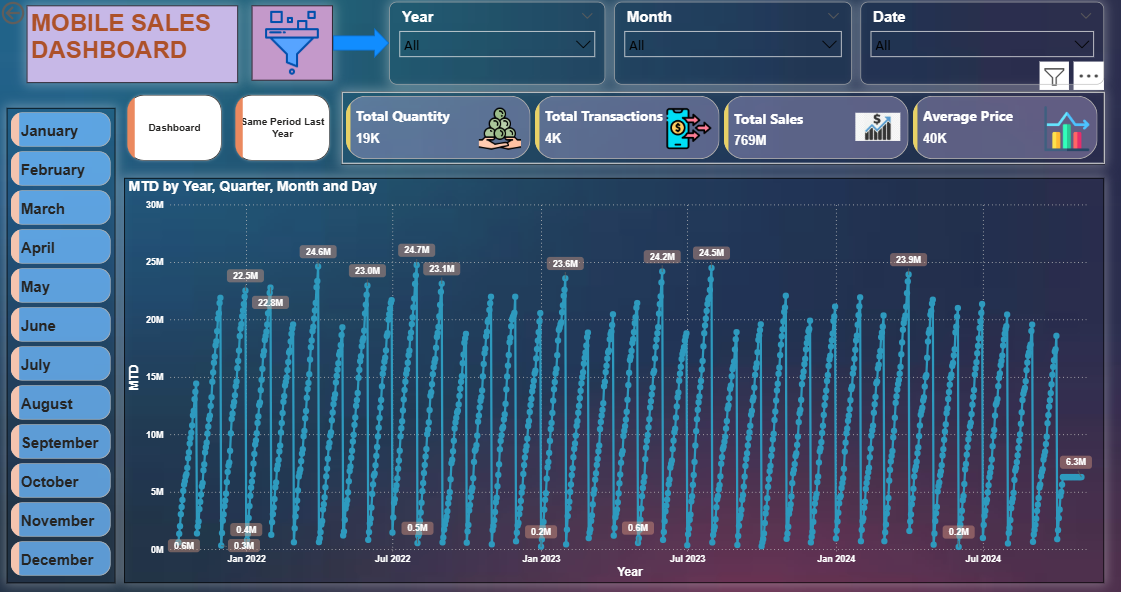

Layout of this report page (visuals, bound fields, positions):
{"tool":"powerbi","page":{"name":"MTD","canvas":[1500,800],"ordinal":1},"visuals":[{"type":"textbox","box":[38.3,10,281.7,103.3],"z":0},{"type":"cardVisual","fields":{"Data":["Sales_Data.Total Quantity","Sales_Data.Total Transactions","Sales_Data.Total Sales","Sales_Data.Average Price"]},"box":[458.3,125,1016.7,96.7],"z":1000},{"type":"advancedSlicerVisual","fields":{"Values":["Custim_calendar.Date.Variation.Date Hierarchy.Month"]},"box":[11.7,146.7,145,633.3],"z":2000},{"type":"slicer","fields":{"Values":["Custom Calandar.Date.Variation.Date Hierarchy.Year"]},"box":[521.7,5,288.3,110],"z":3000},{"type":"slicer","fields":{"Values":["Custom Calandar.Date.Variation.Date Hierarchy.Day"]},"box":[1150,5,325,110],"z":4000},{"type":"slicer","fields":{"Values":["Custom Calandar.Date.Variation.Date Hierarchy.Month"]},"box":[821.7,5,316.7,110],"z":5000},{"type":"actionButton","box":[0,0,100,40],"z":6000},{"type":"image","box":[338.3,10,108.3,100],"z":7000},{"type":"shape","box":[446.7,40,75,40],"z":8000},{"type":"lineChart","fields":{"Y":["Sales_Data.MTD"],"Category":["Custom Calandar.Date.Variation.Date Hierarchy.Year","Custom Calandar.Date.Variation.Date Hierarchy.Quarter","Custom Calandar.Date.Variation.Date Hierarchy.Month","Custom Calandar.Date.Variation.Date Hierarchy.Day"]},"box":[168.3,240,1306.7,540],"z":9000},{"type":"pageNavigator","box":[168.3,125,278.3,96.7],"z":10000}]}

Visuals, with their boxes in screenshot pixels (x1, y1, x2, y2), scaled from the page's 1500x800 canvas onto the 1121x592 screenshot:
textbox: (x1=29, y1=7, x2=239, y2=84)
cardVisual - Sales_Data.Total Quantity x Sales_Data.Total Transactions: (x1=343, y1=92, x2=1102, y2=164)
advancedSlicerVisual - Custim_calendar.Date.Variation.Date Hierarchy.Month: (x1=9, y1=109, x2=117, y2=577)
slicer - Custom Calandar.Date.Variation.Date Hierarchy.Year: (x1=390, y1=4, x2=605, y2=85)
slicer - Custom Calandar.Date.Variation.Date Hierarchy.Day: (x1=859, y1=4, x2=1102, y2=85)
slicer - Custom Calandar.Date.Variation.Date Hierarchy.Month: (x1=614, y1=4, x2=851, y2=85)
actionButton: (x1=0, y1=0, x2=75, y2=30)
image: (x1=253, y1=7, x2=334, y2=81)
shape: (x1=334, y1=30, x2=390, y2=59)
lineChart - Sales_Data.MTD x Custom Calandar.Date.Variation.Date Hierarchy.Year: (x1=126, y1=178, x2=1102, y2=577)
pageNavigator: (x1=126, y1=92, x2=334, y2=164)
